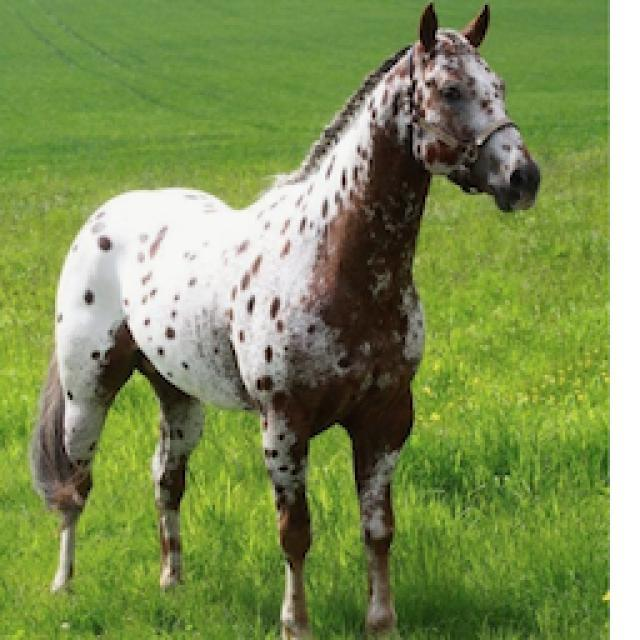Horse: (20, 0, 545, 638)
